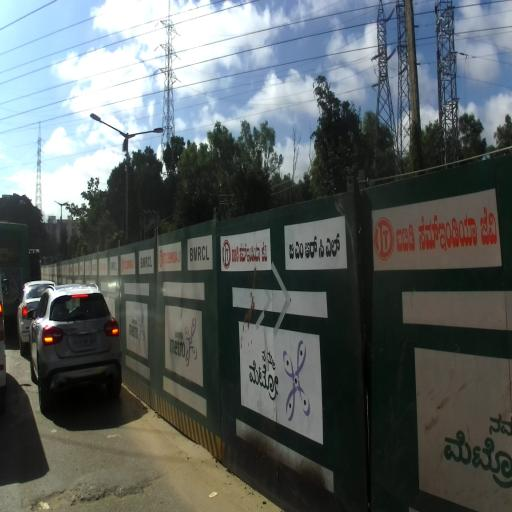street_light_0: (90, 112, 129, 150), (123, 126, 163, 150), (54, 200, 62, 208), (61, 201, 69, 209)
